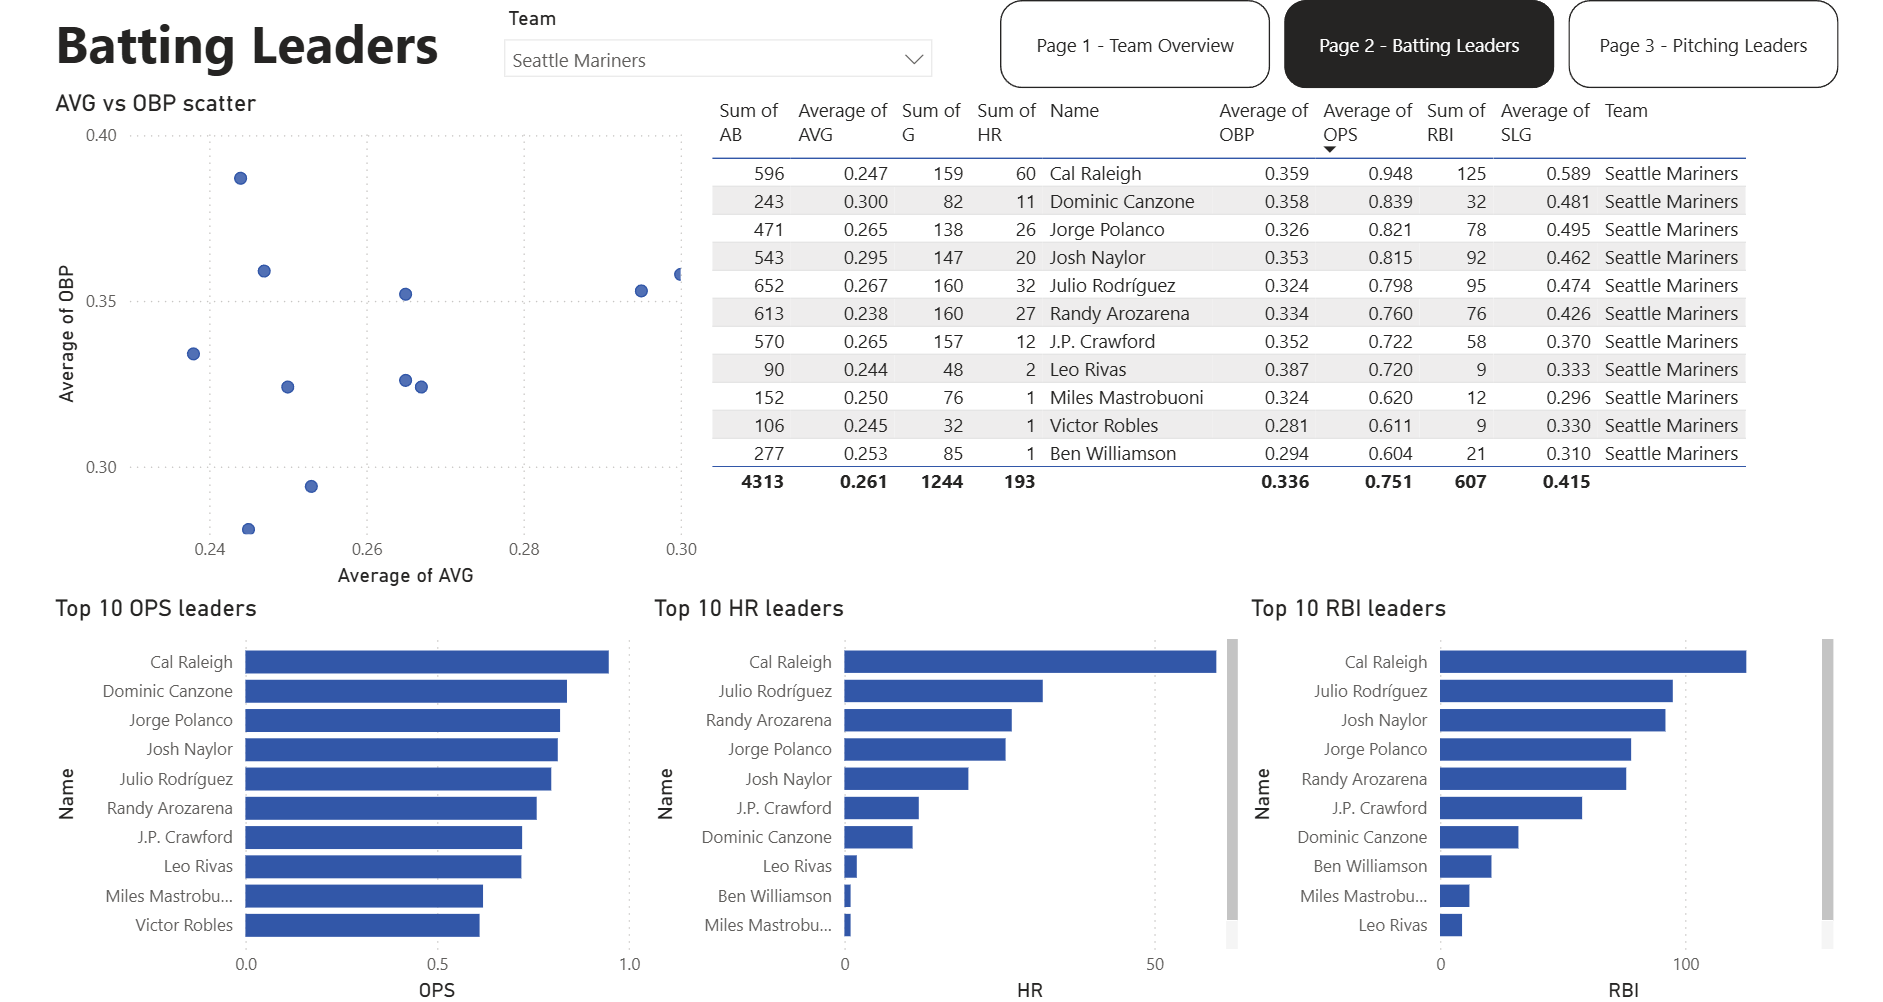

This screenshot's page, from the dashboard's own definition file:
{"tool":"powerbi","page":{"name":"Page 2 - Batting Leaders","canvas":[1280,720],"ordinal":1},"visuals":[{"type":"barChart","title":"Top 10 OPS leaders","fields":{"Category":["batting_clean.Name"],"Y":["Sum(batting_clean.OPS)"]},"box":[0,424.4,427.8,295.6],"z":0},{"type":"barChart","title":"Top 10 HR leaders","fields":{"Category":["batting_clean.Name"],"Y":["Sum(batting_clean.HR)"]},"box":[427.8,424.4,426.7,295.6],"z":1000},{"type":"barChart","title":"Top 10 RBI leaders","fields":{"Category":["batting_clean.Name"],"Y":["Sum(batting_clean.RBI)"]},"box":[854.4,424.4,425.6,295.6],"z":2000},{"type":"scatterChart","title":"AVG vs OBP scatter","fields":{"X":["Avg(batting_clean.AVG)"],"Y":["Avg(batting_clean.OBP)"],"Category":["batting_clean.Name"]},"box":[0,63.3,468.9,360],"z":3000},{"type":"slicer","title":"Team filter","fields":{"Values":["batting_clean.Team"]},"box":[315.6,0,325.6,63.3],"z":4000},{"type":"tableEx","fields":{"Values":["Sum(batting_clean.AB)","Avg(batting_clean.AVG)","Sum(batting_clean.G)","Sum(batting_clean.HR)","batting_clean.Name","Avg(batting_clean.OBP)","Avg(batting_clean.OPS)","Sum(batting_clean.RBI)","Avg(batting_clean.SLG)","batting_clean.Team"]},"box":[468.9,63.3,811.1,360],"z":5000},{"type":"pageNavigator","box":[680,0,600,63.3],"z":6000},{"type":"textbox","box":[0,0,312.2,63.3],"z":7000}]}

Visuals, with their boxes on the page's 1280x720 design canvas (x1, y1, x2, y2). These are canvas units, not pixel positions in the 1883x1002 screenshot, which may show the page scaled, cropped or inside an application window:
"Top 10 OPS leaders" barChart: detection(0, 424, 428, 720)
"Top 10 HR leaders" barChart: detection(428, 424, 854, 720)
"Top 10 RBI leaders" barChart: detection(854, 424, 1280, 720)
"AVG vs OBP scatter" scatterChart: detection(0, 63, 469, 423)
"Team filter" slicer: detection(316, 0, 641, 63)
tableEx - Sum(batting_clean.AB) x Avg(batting_clean.AVG): detection(469, 63, 1280, 423)
pageNavigator: detection(680, 0, 1280, 63)
textbox: detection(0, 0, 312, 63)
